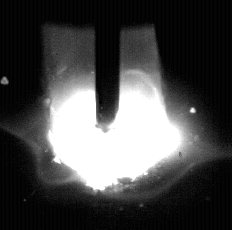arame: (95, 0, 121, 132)
poca: (47, 0, 185, 230)
